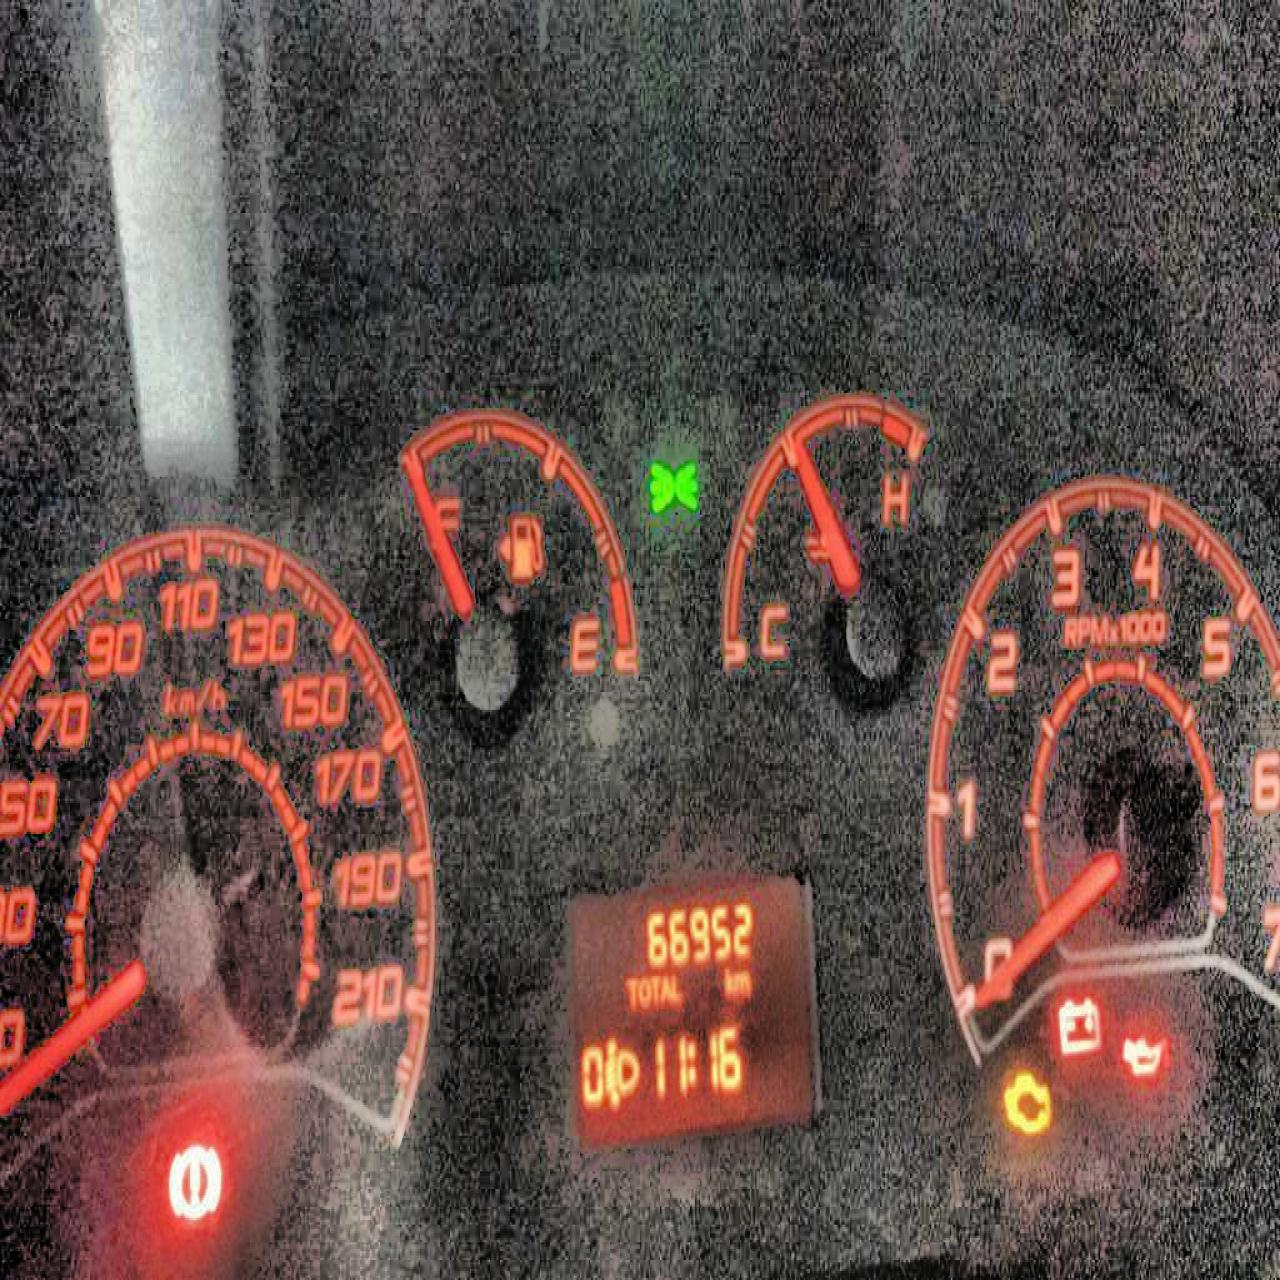0: (579, 1041, 604, 1110)
1: (652, 1029, 669, 1110), (675, 1027, 686, 1103), (708, 1027, 717, 1098)
2: (731, 896, 753, 956)
5: (709, 900, 730, 959)
6: (719, 1023, 745, 1096), (645, 907, 667, 969), (667, 907, 688, 965)
9: (689, 903, 709, 964)
X: (687, 1034, 701, 1087), (625, 974, 638, 1012), (669, 969, 682, 1005), (734, 969, 750, 995), (639, 974, 651, 1007), (651, 972, 660, 1012), (660, 972, 670, 1007), (722, 965, 733, 996)
odometer: (561, 867, 825, 1146)
